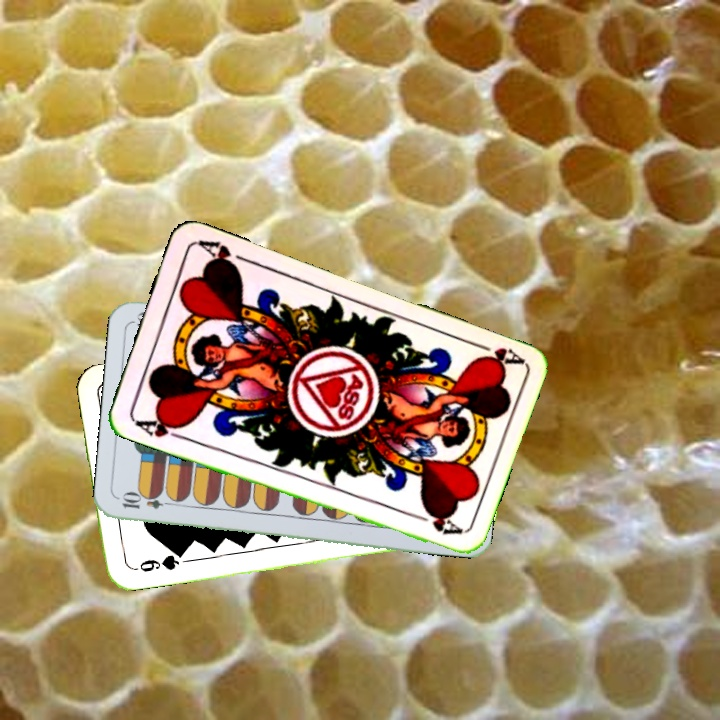E10: (118, 492, 177, 512)
G9: (126, 549, 185, 575)
HA: (467, 337, 524, 371), (129, 412, 189, 442)
